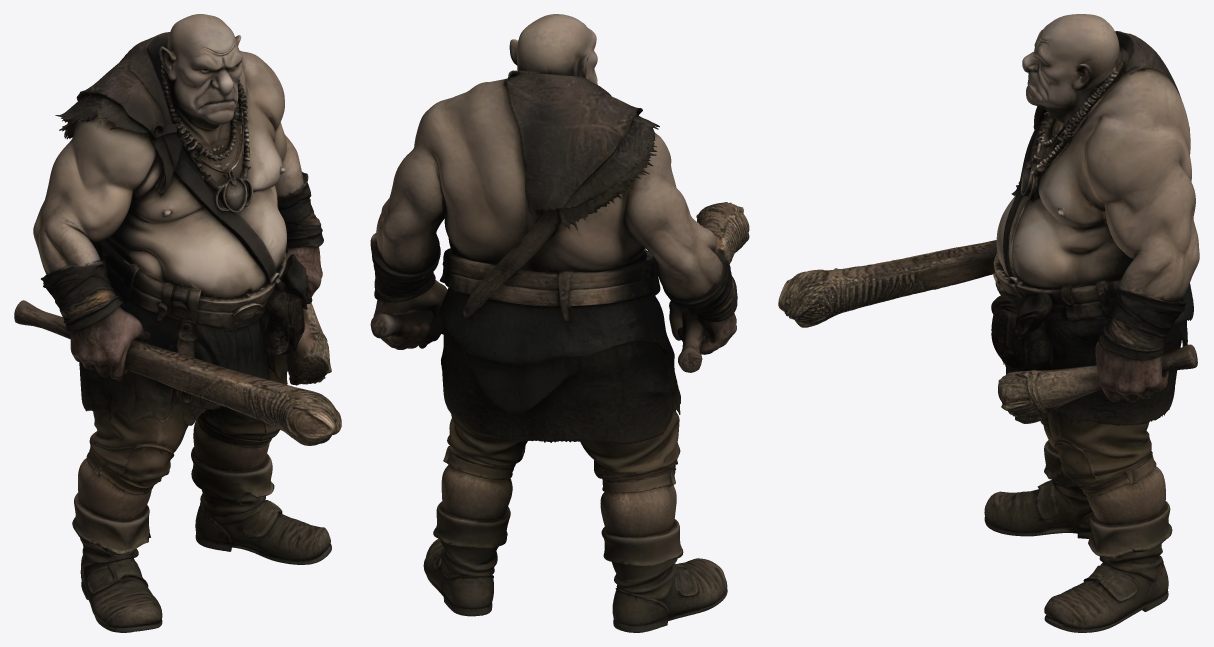
File: ogre.glb
The picture shows the model from 3 angles, left to right: view 1: azimuth 30°, elevation 25°; view 2: azimuth 150°, elevation 25°; view 3: azimuth 270°, elevation 25°; orthographic projection. The views are drawn at different scales.
Visible parts, largest first — view 1: material; view 2: material; view 3: material.
Part boxes in pixels (x1,y1,x2,y2): material: (14,14,341,632); material: (370,14,749,632); material: (778,14,1199,632).
Bounding box in the file's own units: 0.591 × 1.03 × 0.6993.
Materials: 1 (1 with a texture image).
